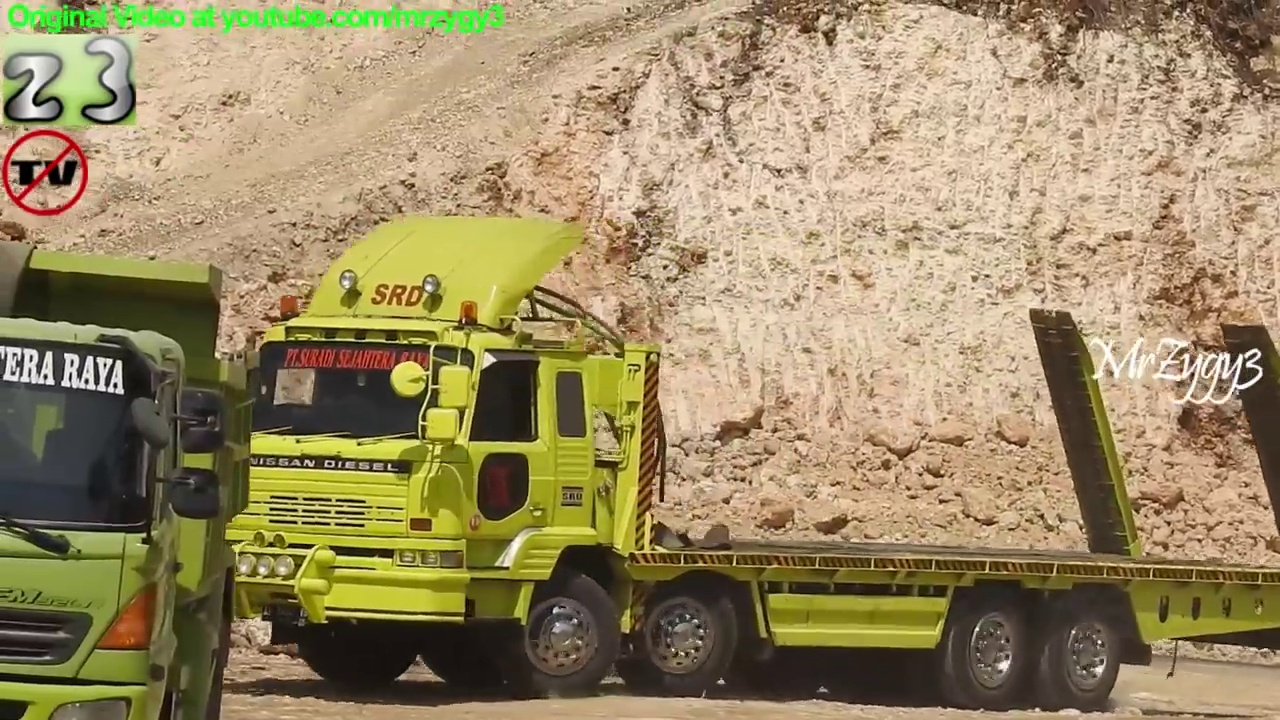truck: (212, 212, 1275, 720), (1, 238, 260, 720)
